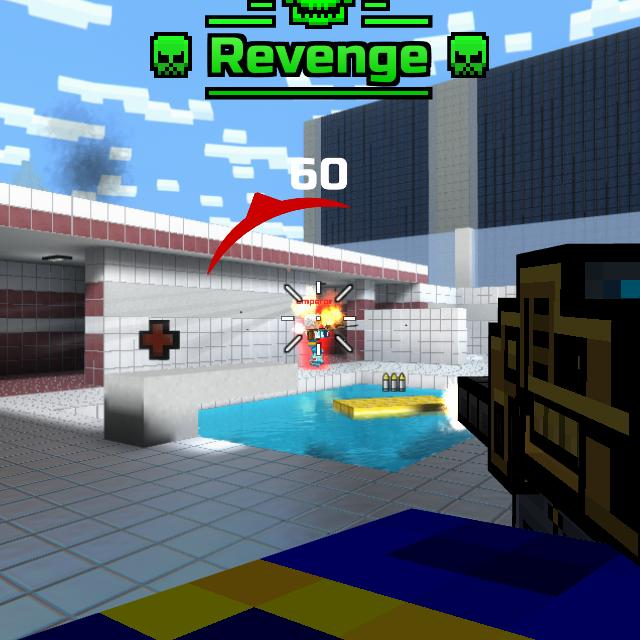Enemy: (305, 313, 331, 369)
